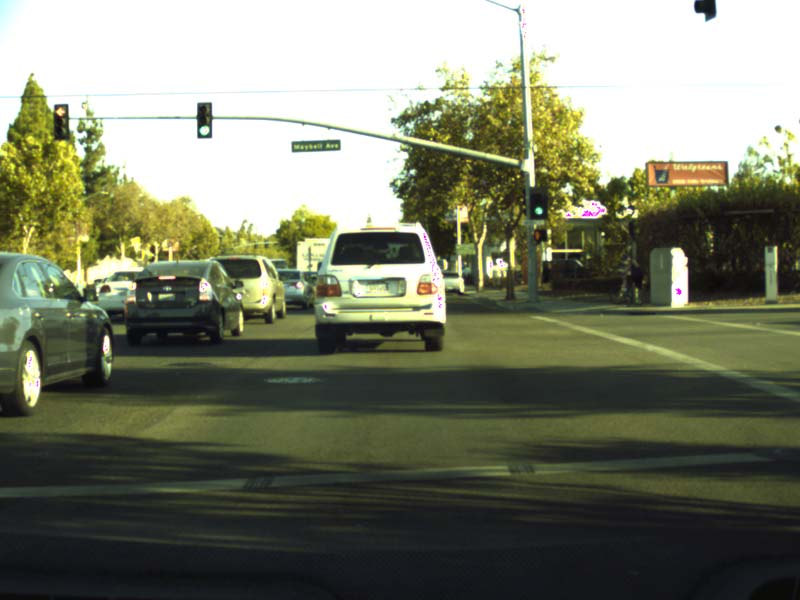Green: (528, 187, 547, 219), (196, 102, 212, 138)
Red: (53, 103, 68, 139)
